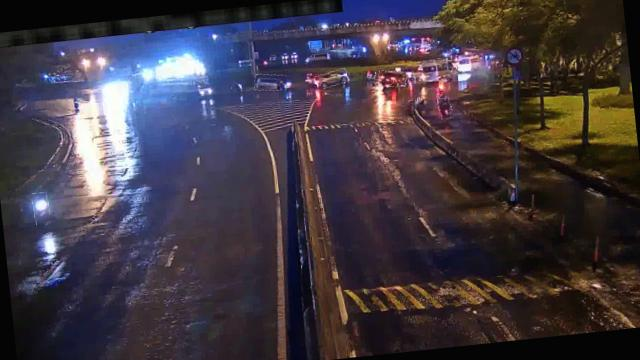Bike: (32, 193, 51, 228), (438, 97, 452, 120)
Bus: (412, 58, 450, 84)
Car: (254, 72, 288, 92), (377, 69, 407, 89), (315, 70, 348, 88)
